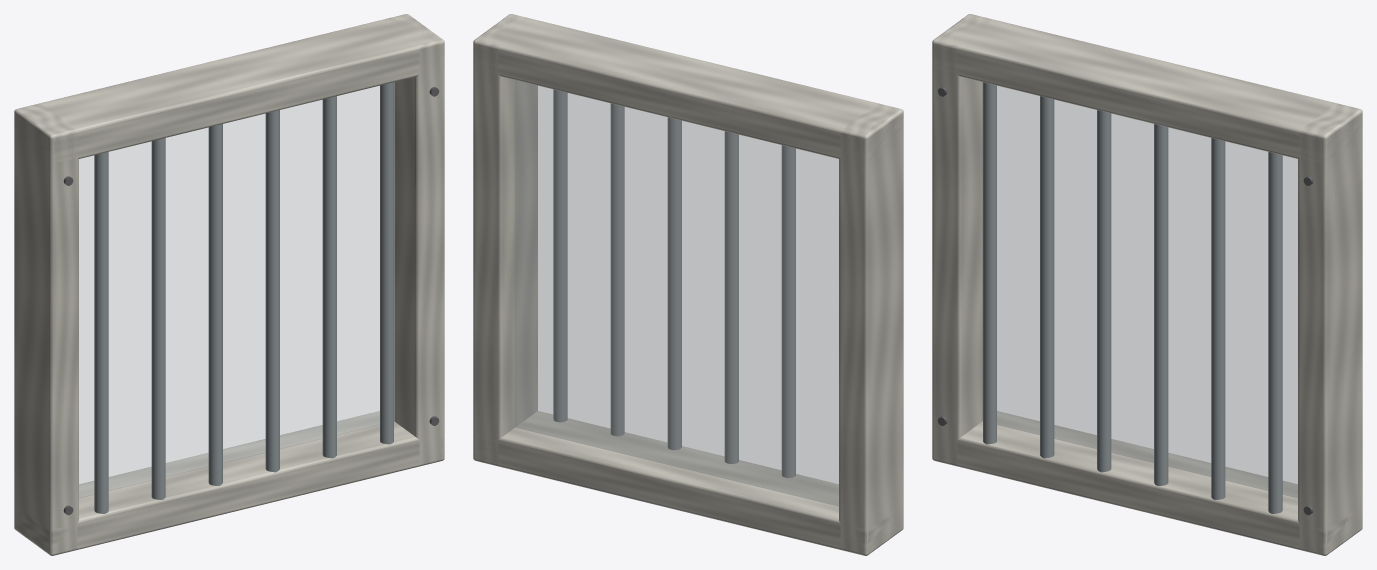
File: prison-complex-builder-window-barred-94f75558__25617.glb
3 renders of one model, left to right at view 1: azimuth 30°, elevation 25°; view 2: azimuth 150°, elevation 25°; view 3: azimuth 330°, elevation 25°, orthographic.
Visible parts, largest first — view 1: window-barred; view 2: window-barred; view 3: window-barred.
Boxes of the visible parts, box(x1,y1,x2,y2) form: window-barred: box(14, 14, 444, 555); window-barred: box(473, 14, 903, 555); window-barred: box(932, 14, 1362, 555).
Bounding box in the file's own units: 1.08 × 1.1 × 0.198.
Materials: 5 (1 with a texture image).
